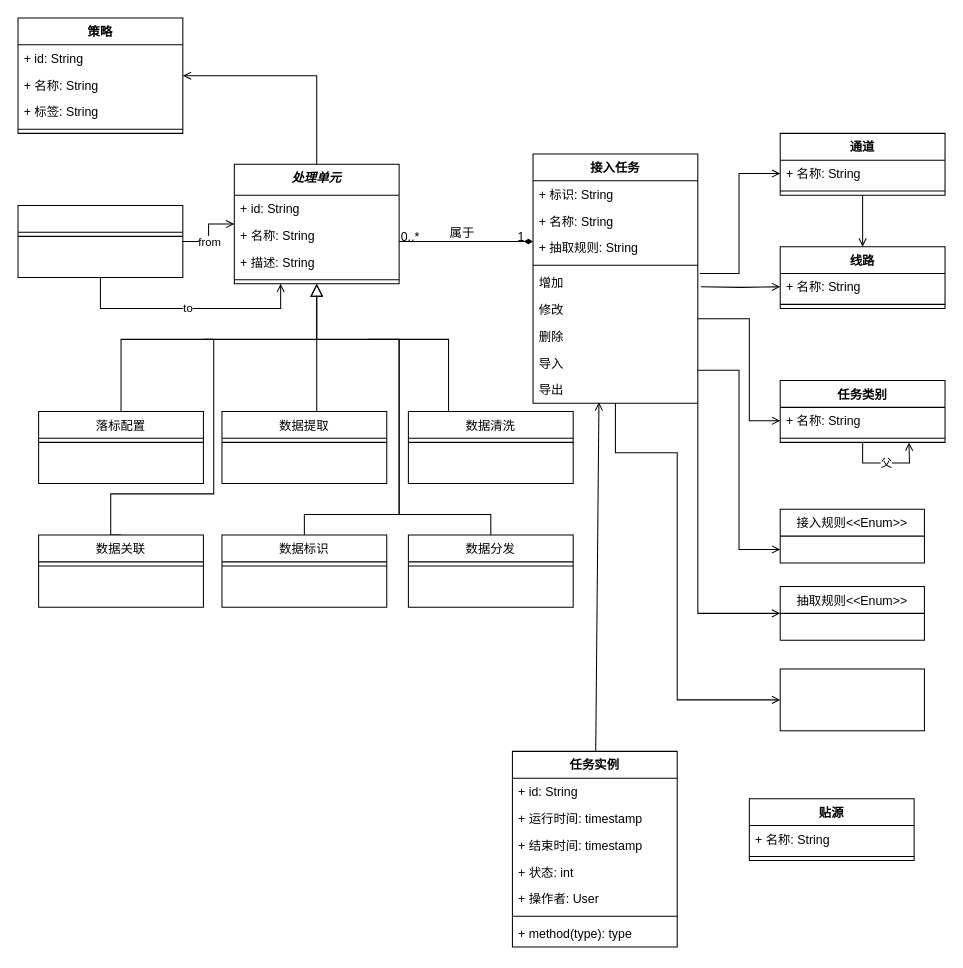
Image size: 963x968. Some labels were removed from this diagram. The shapes that lost their labels are listed below. From the top down, each one's centre as x and y in pixels, then its label:
At point (100, 241): "管道".
At point (851, 699): "任务状态<<Enum>>".
